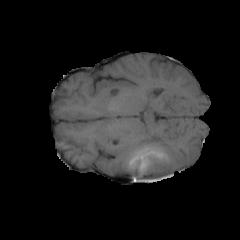glioma: (115, 137, 175, 178)
